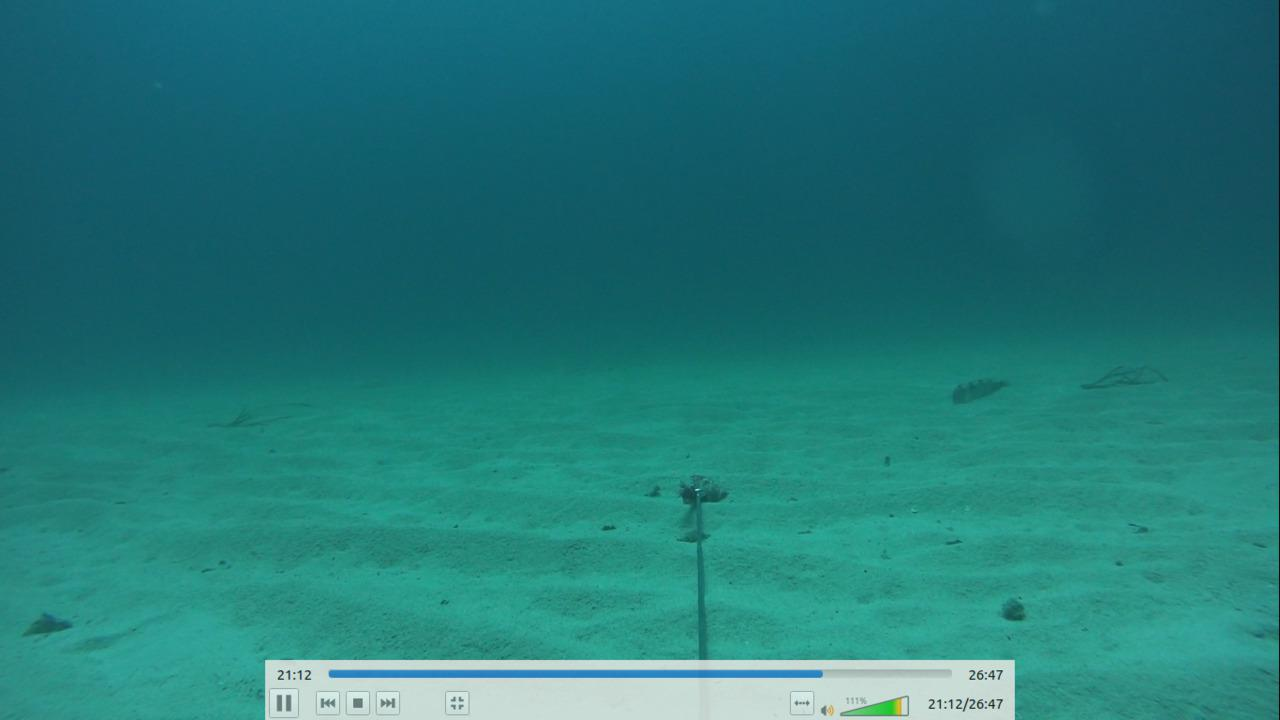raor: (945, 371, 1016, 410)
